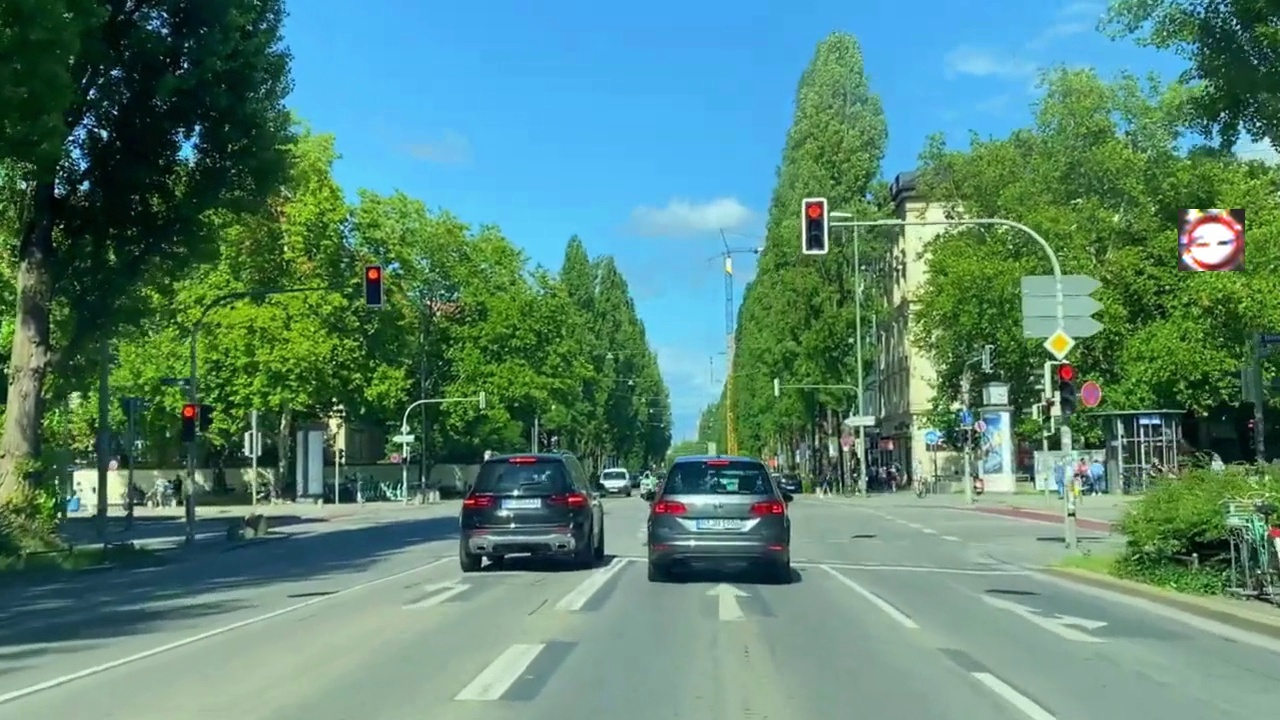No passing: (1178, 209, 1245, 271)
